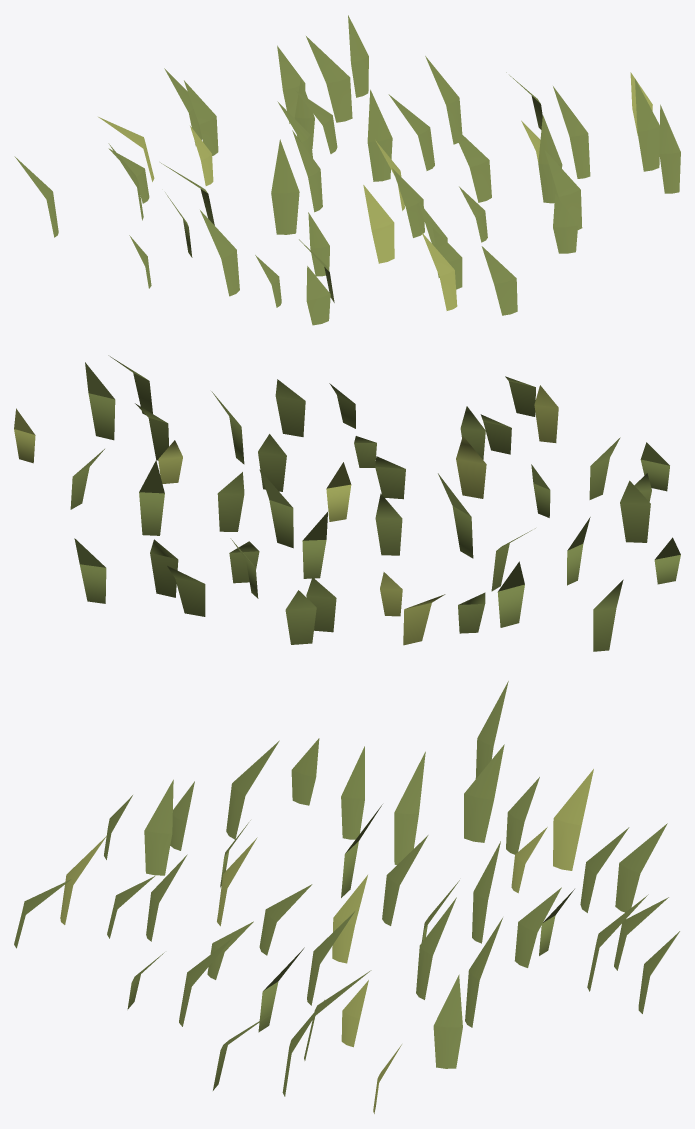
Rendered from foliage_grass_a.glb.
The picture shows the model from 3 angles, top to bottom: view 1: azimuth 30°, elevation 25°; view 2: azimuth 150°, elevation 25°; view 3: azimuth 270°, elevation 25°; orthographic projection. The views are drawn at different scales.
Visible parts, largest first — view 1: foliage_grass_a_LOD0; view 2: foliage_grass_a_LOD0; view 3: foliage_grass_a_LOD0.
Part boxes in pixels (<box>): foliage_grass_a_LOD0: <box>14,15,680,325</box>; foliage_grass_a_LOD0: <box>14,355,680,651</box>; foliage_grass_a_LOD0: <box>14,681,679,1113</box>.
Size of what is drawn, in the model's own units: 1.64 by 0.2181 by 1.35.
